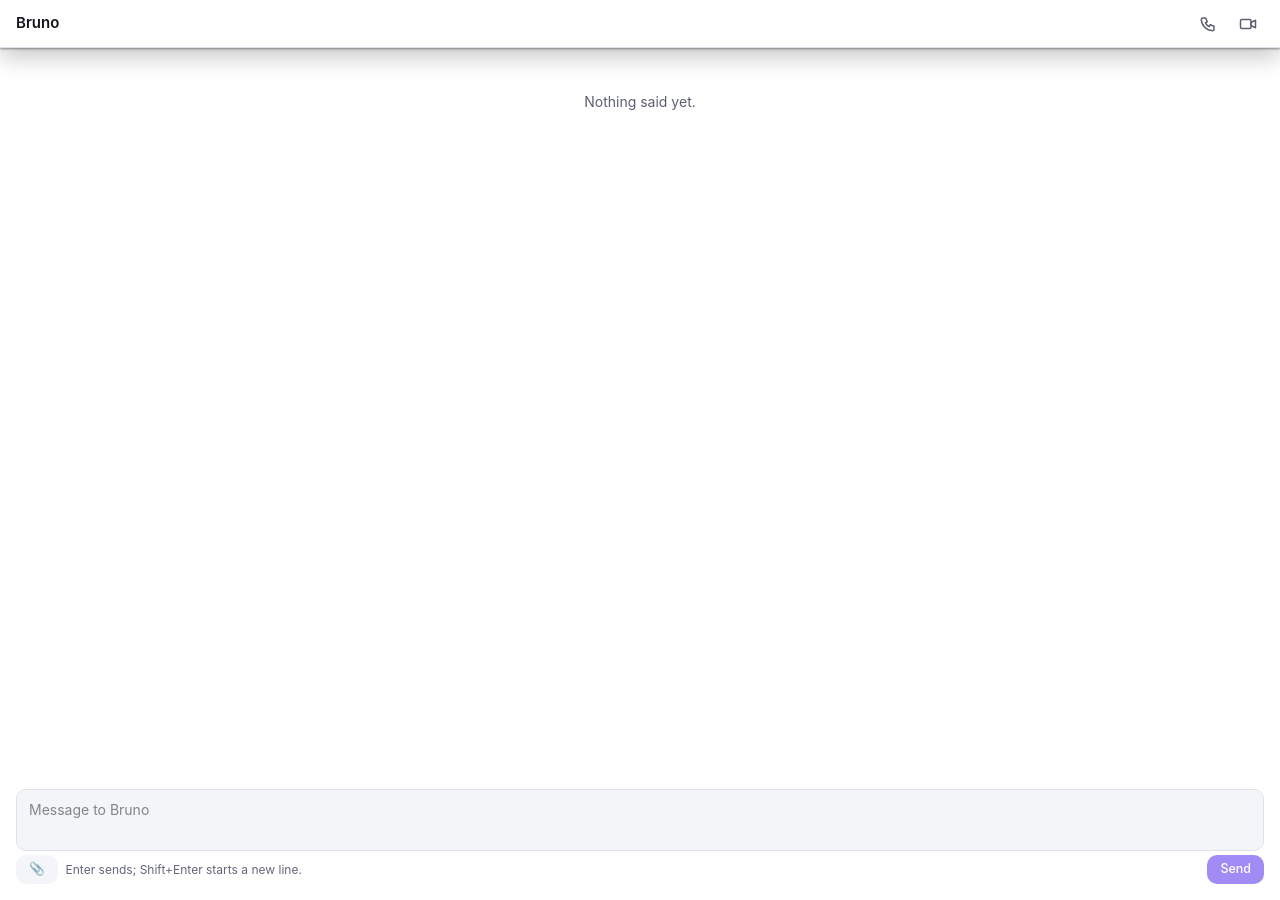
Test: a file too large is refused in the interface's words
This screenshot has width=1280, height=900.
Click the button named "Attach a file": (37, 870) [16,855,58,884]
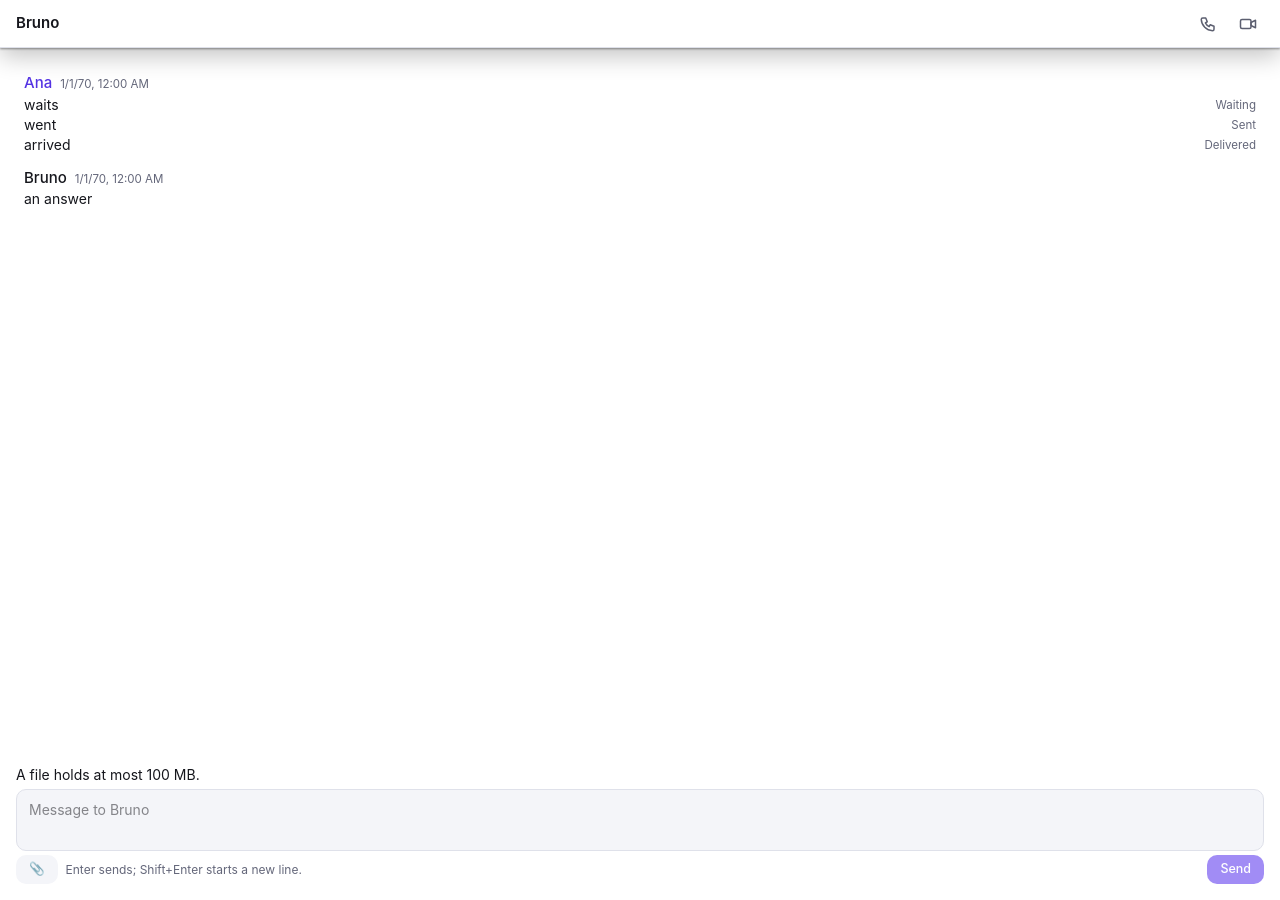
Result: the text "A file holds at most 100 MB." is shown at [16,766,200,783]
